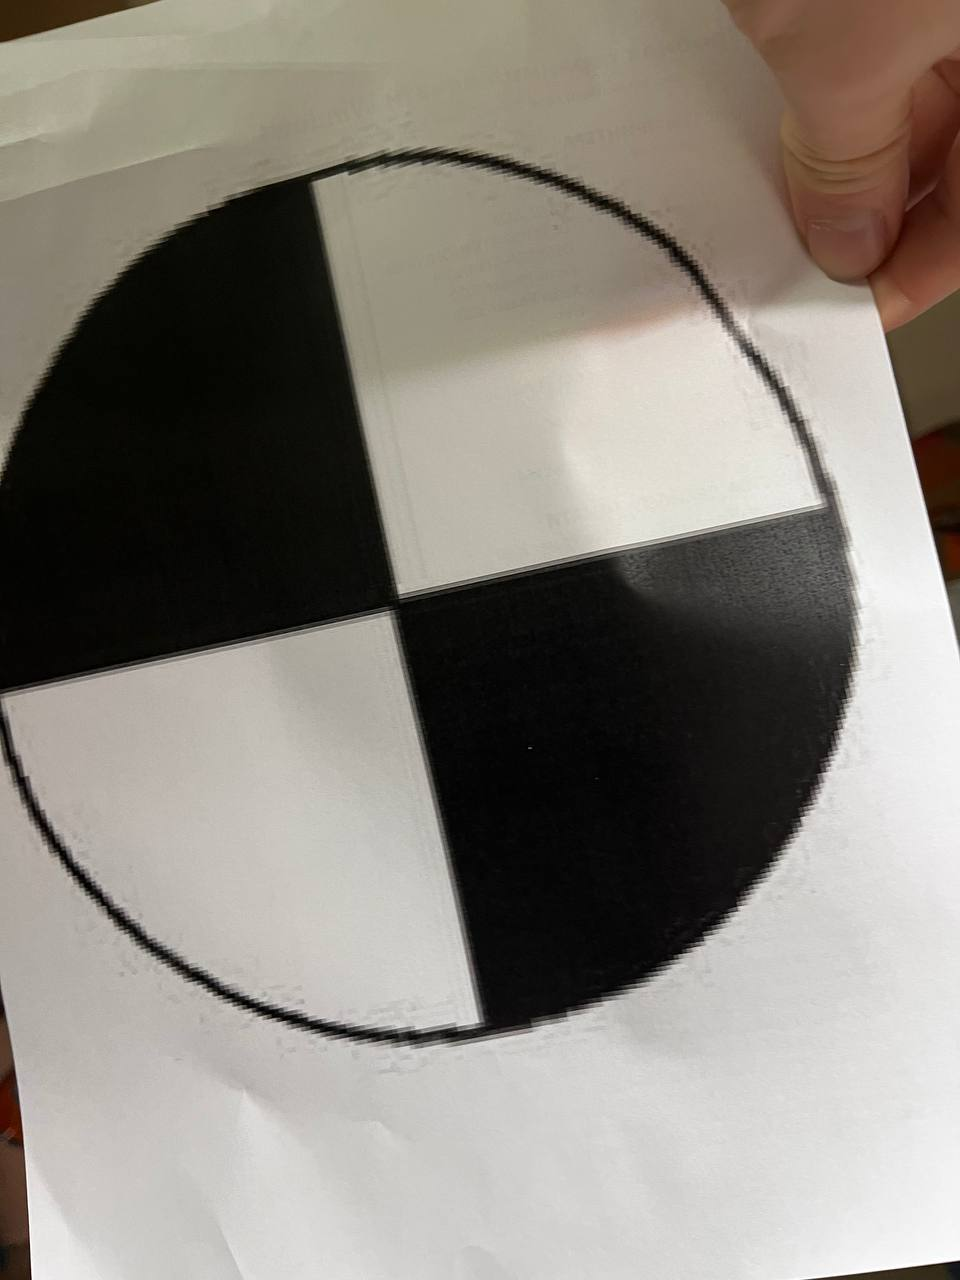pattern: (4, 146, 861, 1046)
